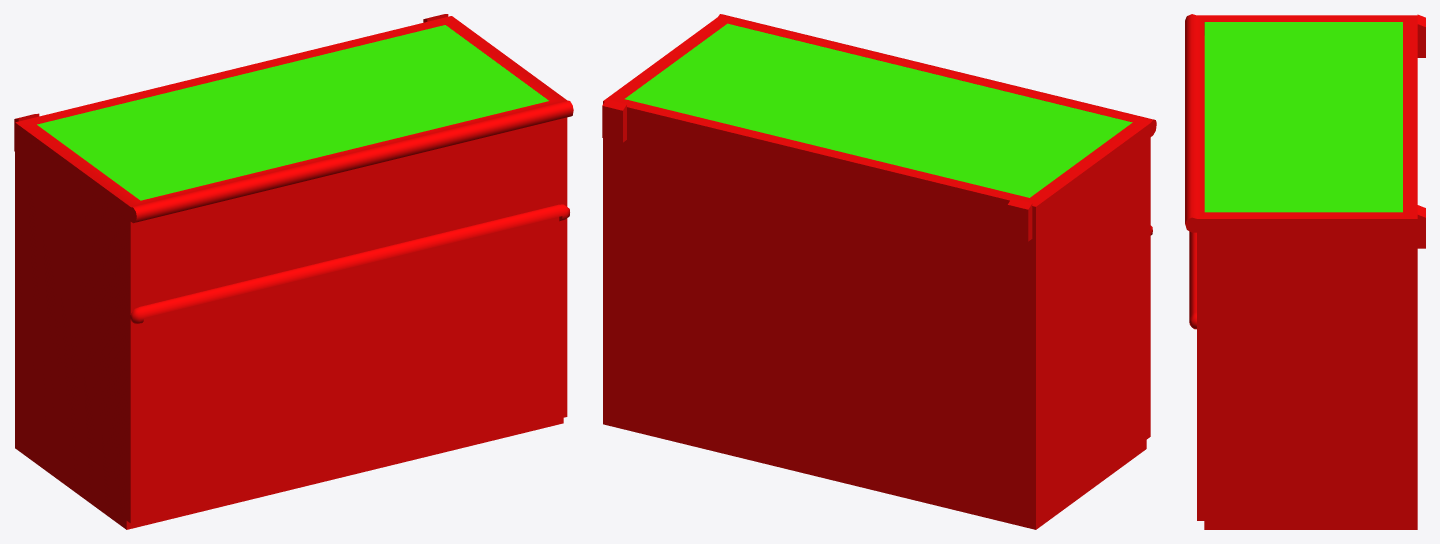
The model's file is Freezer_9olxw5.fbx.
3 renders of one model, left to right at view 1: azimuth 30°, elevation 25°; view 2: azimuth 150°, elevation 25°; view 3: azimuth 270°, elevation 25°, orthographic. The views are drawn at different scales.
Visible parts, largest first — view 1: Freezer_9olxw5, Freezer_9olxw5_Door; view 2: Freezer_9olxw5, Freezer_9olxw5_Door; view 3: Freezer_9olxw5, Freezer_9olxw5_Door.
Boxes of the visible parts, box(x1,y1,x2,y2) form: Freezer_9olxw5: box(14, 14, 569, 529); Freezer_9olxw5_Door: box(15, 16, 573, 223); Freezer_9olxw5: box(602, 99, 1152, 529); Freezer_9olxw5_Door: box(603, 14, 1156, 220); Freezer_9olxw5: box(1189, 14, 1425, 529); Freezer_9olxw5_Door: box(1185, 14, 1417, 232).
Bounding box in the file's own units: 120 × 86.25 × 60.
